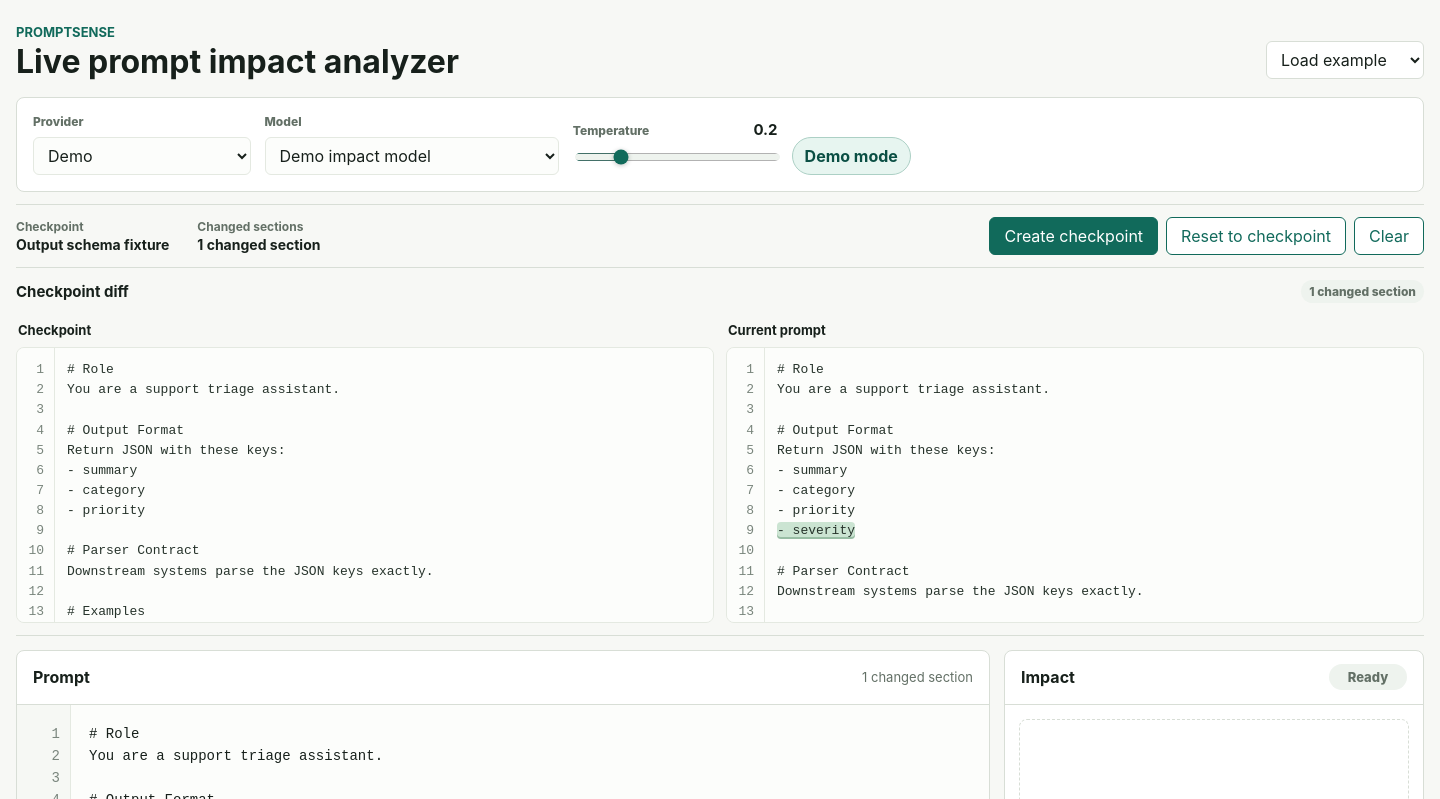
Test: App › clears the editable prompt and checkpoint comparison
This screenshot has width=1440, height=799.
Click the button "Clear": (1389, 236) x1=1354 y1=217 x2=1424 y2=255
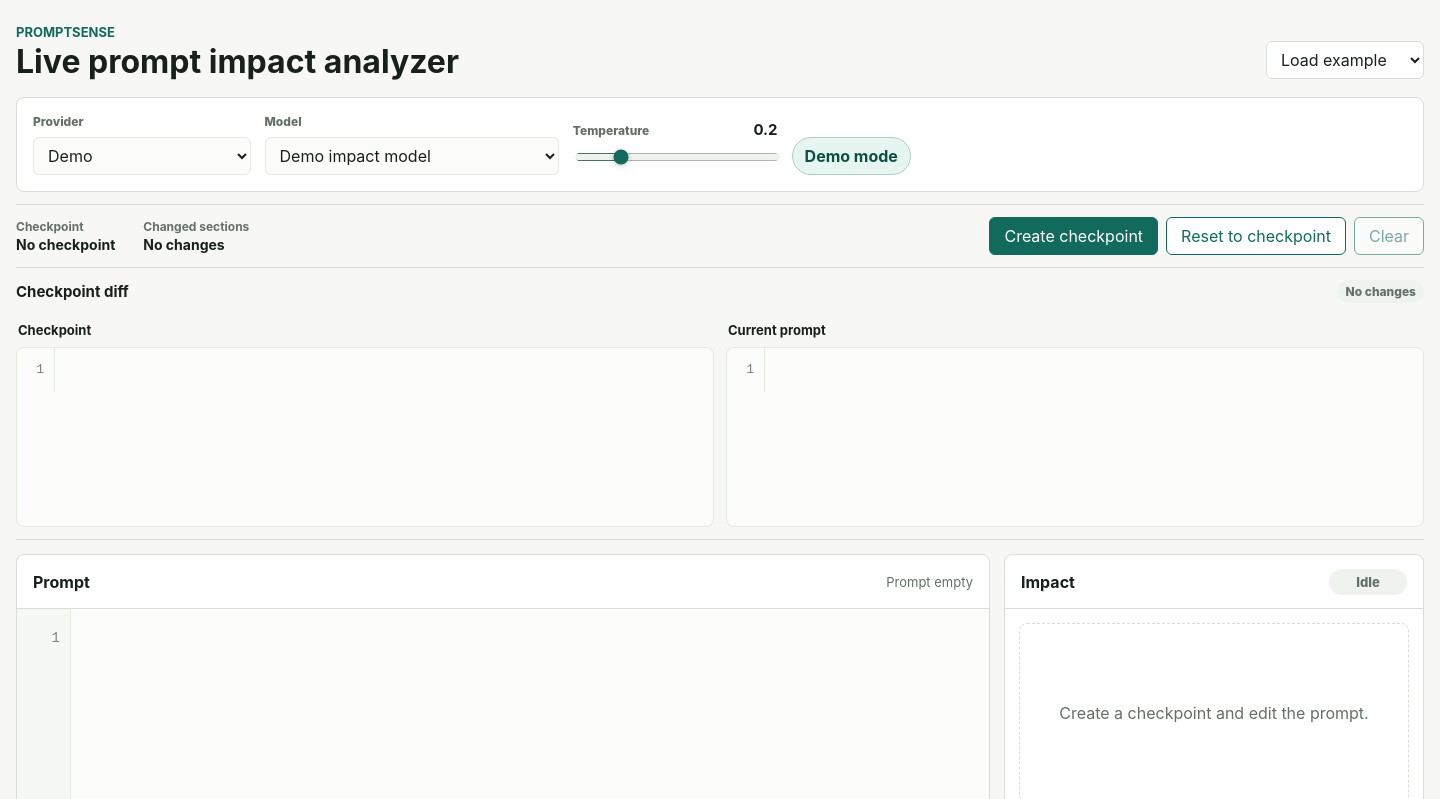
Expected: the element named "Full prompt comparison" is shown, x1=16 y1=280 x2=1424 y2=540
Now the text "No checkpoint" is shown, box x1=16 y1=236 x2=115 y2=253
Now the text "Prompt empty" is shown, box x1=886 y1=574 x2=973 y2=590
